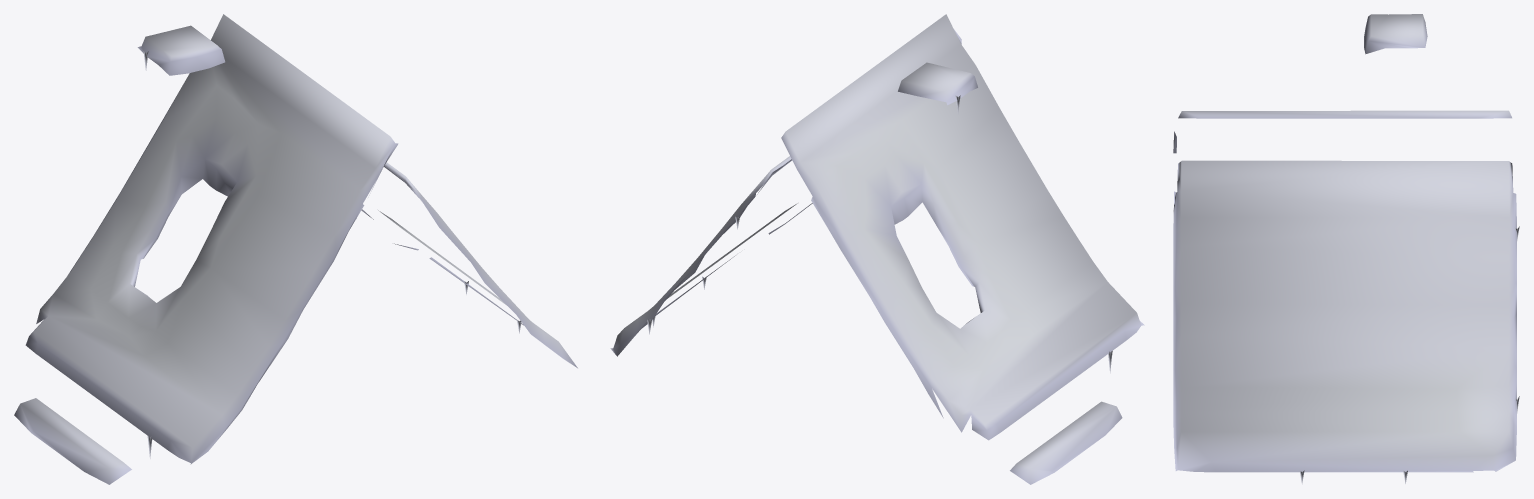
Rendered from category.dex.s.snow.glb.
3 views of the same model, side by side, from view 1: azimuth 30°, elevation 25°; view 2: azimuth 150°, elevation 25°; view 3: azimuth 270°, elevation 25° (orthographic). The views are drawn at different scales.
Visible parts, largest first — view 1: snow, tier.4; view 2: snow, tier.4; view 3: snow.
Part boxes in pixels (bbox=[...]): snow: bbox=[25, 14, 577, 464]; tier.4: bbox=[14, 398, 131, 484]; snow: bbox=[610, 14, 1144, 440]; tier.4: bbox=[1010, 401, 1122, 484]; snow: bbox=[1173, 14, 1519, 484].
Bounding box in the file's own units: 3.65 × 3 × 2.61.
